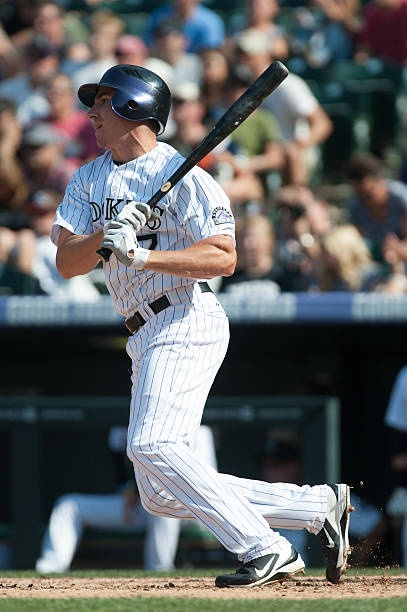bita: (144, 67, 287, 211)
